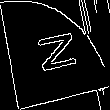N_W: (30, 30, 80, 80)
